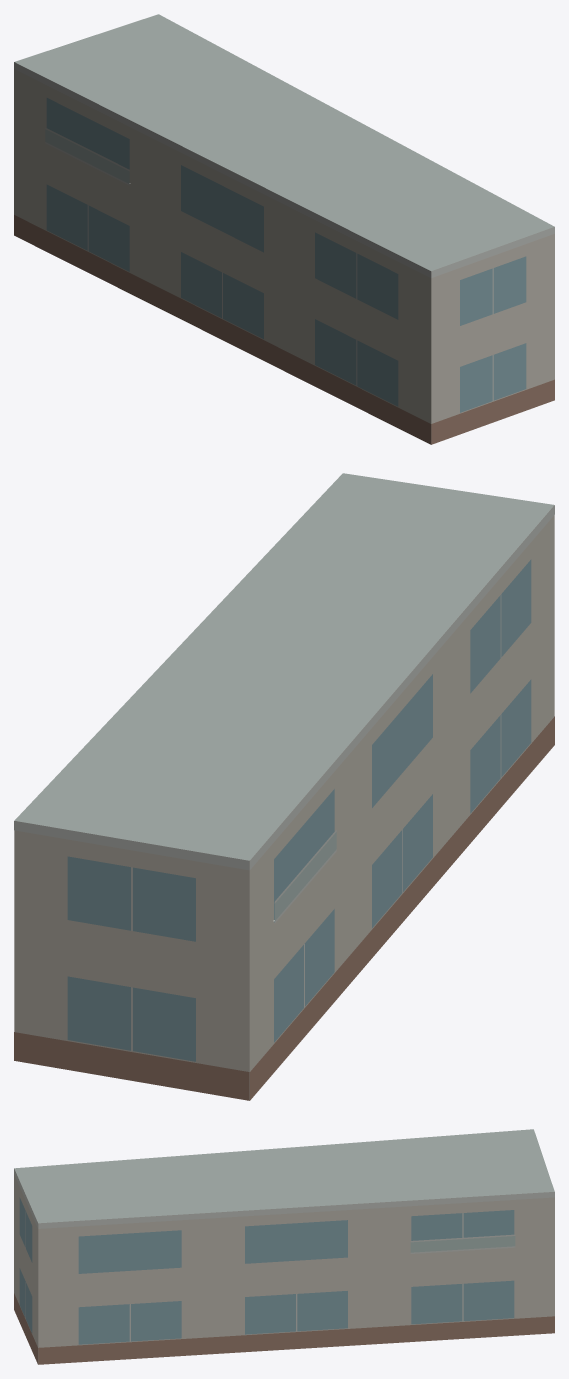
The model's file is survey-upis-32700439.glb.
3 renders of one model, top to bottom at view 1: azimuth 30°, elevation 25°; view 2: azimuth 150°, elevation 25°; view 3: azimuth 270°, elevation 25°, orthographic. The views are drawn at different scales.
Parts seen in each view (by area): view 1: survey-upis-32700439.tmp; view 2: survey-upis-32700439.tmp; view 3: survey-upis-32700439.tmp.
Boxes of the visible parts, left/top/right/bottom form: survey-upis-32700439.tmp: left=14, top=14, right=554, bottom=444; survey-upis-32700439.tmp: left=14, top=473, right=554, bottom=1100; survey-upis-32700439.tmp: left=14, top=1129, right=554, bottom=1364.
Bounding box in the file's own units: 8.72 × 6.1 × 21.15.
